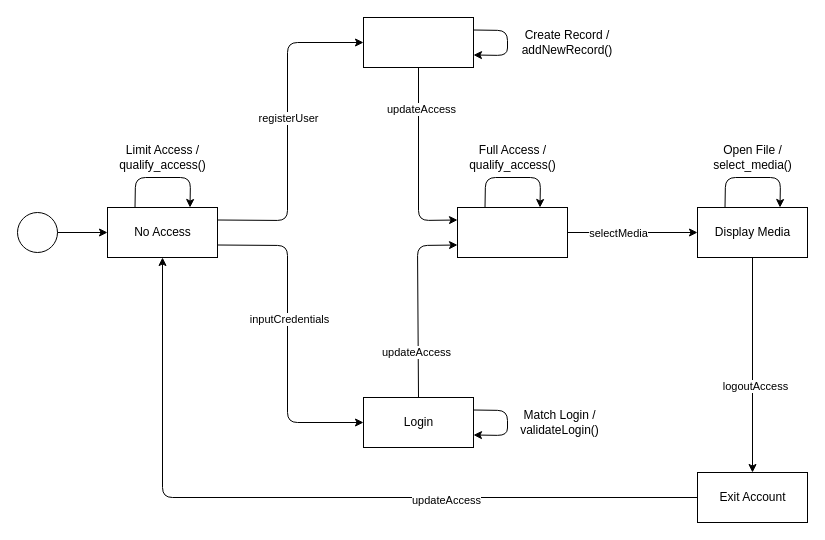
Image size: 825x540. Some labels were removed from this diagram. The centre of each missing label's shape, as x and y in pixels:
Create Account: (x=418, y=42)
Full Access: (x=512, y=232)
